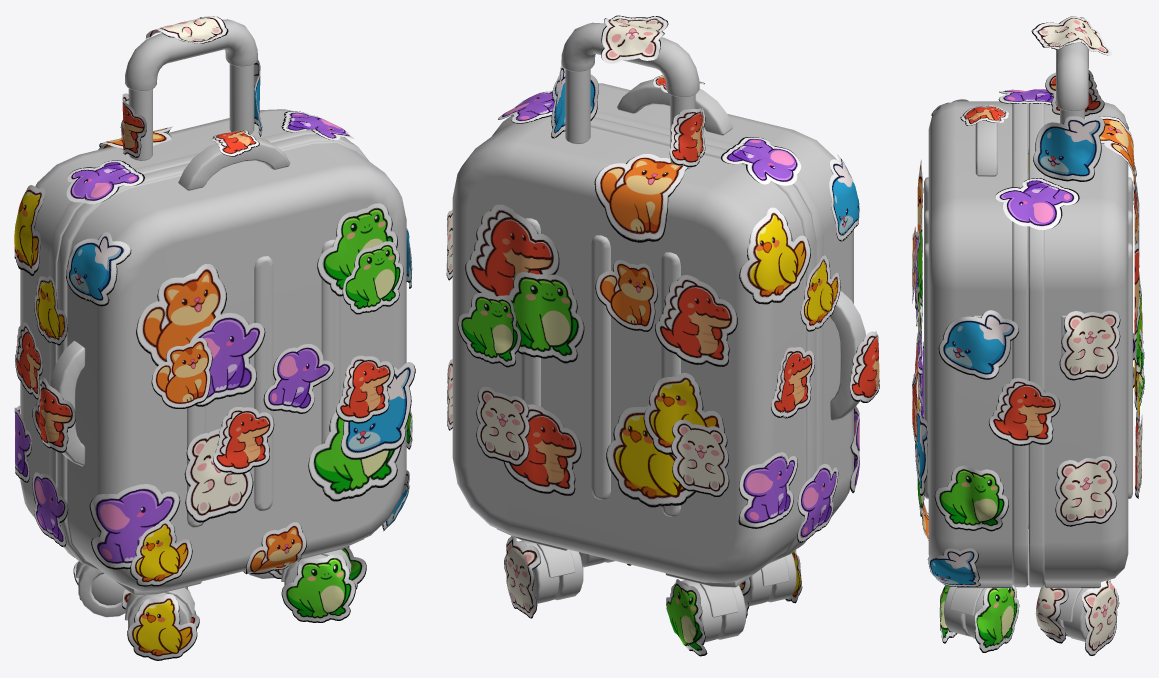
File: Level_3_World-001.fbx
3 renders of one model, left to right at view 1: azimuth 30°, elevation 25°; view 2: azimuth 150°, elevation 25°; view 3: azimuth 270°, elevation 25°, orthographic. The views are drawn at different scales.
Parts seen in each view (by area): view 1: HoldableObject_4, HoldableObject_3, HoldableObject_10, Sticker_1, Sticker_13, Sticker_11, Sticker_0, Sticker_10, Sticker_47, Sticker_9, Sticker_12, Sticker_44 (+21 smaller); view 2: HoldableObject_3, HoldableObject_4, HoldableObject_10, Sticker_8, Sticker_2, Sticker_6, Sticker_5, Sticker_3, Sticker_14, Sticker_7, Sticker_20, Sticker_19 (+19 smaller); view 3: HoldableObject_4, HoldableObject_3, Sticker_35, Sticker_16, Sticker_37, Sticker_38, Sticker_36, Sticker_39, Sticker_42, HoldableObject_10, Sticker_48, Sticker_46 (+18 smaller).
Part boxes in pixels (x1,y1,x2,y2): HoldableObject_4: (50, 134, 406, 595); HoldableObject_3: (20, 109, 350, 557); HoldableObject_10: (125, 19, 257, 160); Sticker_1: (136, 264, 226, 366); Sticker_13: (89, 484, 180, 569); Sticker_11: (189, 313, 265, 406); Sticker_0: (308, 411, 401, 501); Sticker_10: (184, 428, 253, 522); Sticker_47: (281, 554, 355, 622); Sticker_9: (317, 203, 397, 296); Sticker_12: (340, 362, 415, 459); Sticker_44: (127, 594, 197, 660); HoldableObject_3: (452, 115, 815, 587); HoldableObject_4: (510, 79, 865, 548); HoldableObject_10: (561, 22, 699, 169); Sticker_8: (594, 154, 688, 242); Sticker_2: (465, 204, 559, 296); Sticker_6: (655, 275, 737, 366); Sticker_5: (503, 272, 584, 363); Sticker_3: (606, 404, 695, 507); Sticker_14: (739, 207, 810, 304); Sticker_7: (503, 404, 581, 495); Sticker_20: (671, 419, 729, 496); Sticker_19: (457, 293, 521, 367); HoldableObject_4: (924, 101, 1028, 588); HoldableObject_3: (1028, 102, 1132, 588); Sticker_35: (938, 310, 1019, 379); Sticker_16: (1033, 116, 1105, 181); Sticker_37: (1055, 456, 1117, 526); Sticker_38: (934, 465, 1008, 531); Sticker_36: (1059, 310, 1120, 380); Sticker_39: (988, 378, 1060, 445); Sticker_42: (995, 178, 1079, 230); HoldableObject_10: (1056, 42, 1088, 181); Sticker_48: (974, 585, 1019, 652); Sticker_46: (1081, 579, 1119, 655).
Bounding box in the file's own units: 333 × 507 × 185.
